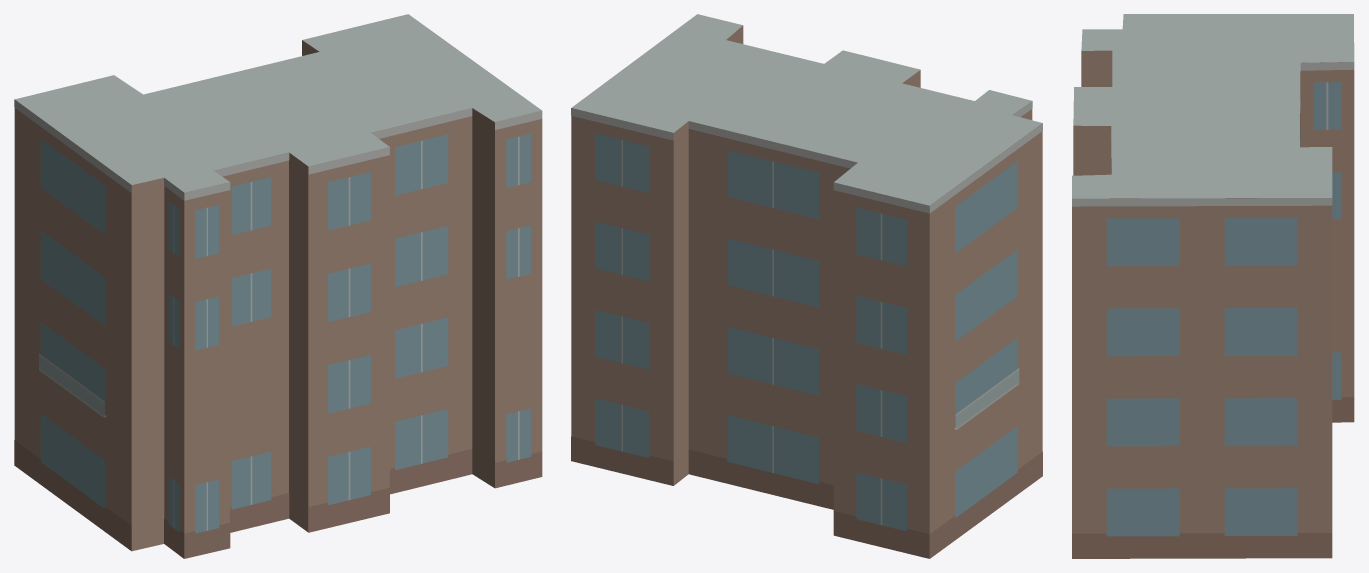
The model's file is survey-upis-32771312.glb.
3 views of the same model, side by side, from view 1: azimuth 30°, elevation 25°; view 2: azimuth 150°, elevation 25°; view 3: azimuth 270°, elevation 25° (orthographic). The views are drawn at different scales.
Visible parts, largest first — view 1: survey-upis-32771312.tmp; view 2: survey-upis-32771312.tmp; view 3: survey-upis-32771312.tmp.
Part boxes in pixels (x1,y1,x2,y2): survey-upis-32771312.tmp: [14, 14, 542, 558]; survey-upis-32771312.tmp: [571, 14, 1042, 558]; survey-upis-32771312.tmp: [1072, 14, 1354, 558].
Bounding box in the file's own units: 12.18 × 11.05 × 7.87.
